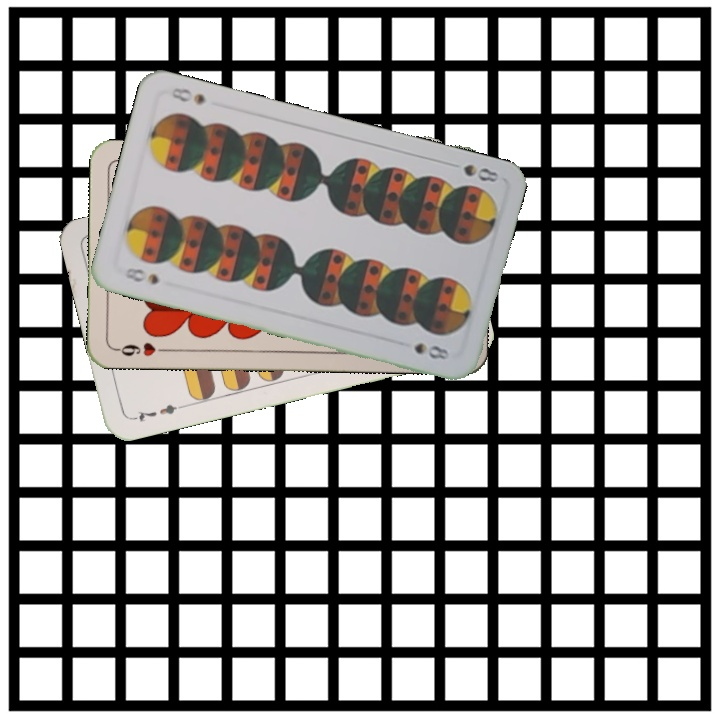E7: (128, 400, 186, 425)
H9: (112, 338, 171, 359)
S8: (443, 158, 503, 185), (120, 263, 161, 288)
